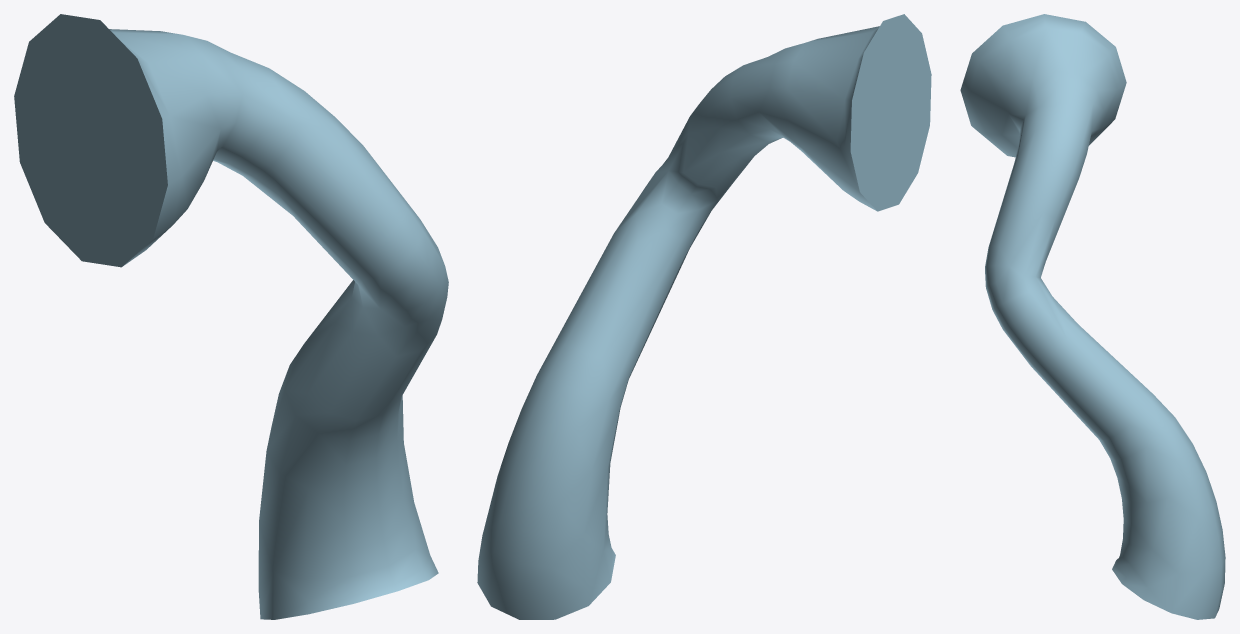
The model's file is articulacoes-posterior-cruciate-ligament-l.glb.
3 views of the same model, side by side, from view 1: azimuth 30°, elevation 25°; view 2: azimuth 150°, elevation 25°; view 3: azimuth 270°, elevation 25° (orthographic). The views are drawn at different scales.
Visible parts, largest first — view 1: Posterior cruciate ligament.l; view 2: Posterior cruciate ligament.l; view 3: Posterior cruciate ligament.l.
Part boxes in pixels (x1,y1,x2,y2): Posterior cruciate ligament.l: (14, 14, 448, 619); Posterior cruciate ligament.l: (477, 14, 931, 619); Posterior cruciate ligament.l: (960, 14, 1225, 619).
Size of the model in its own units: 0.0233 by 0.0379 by 0.0186.
